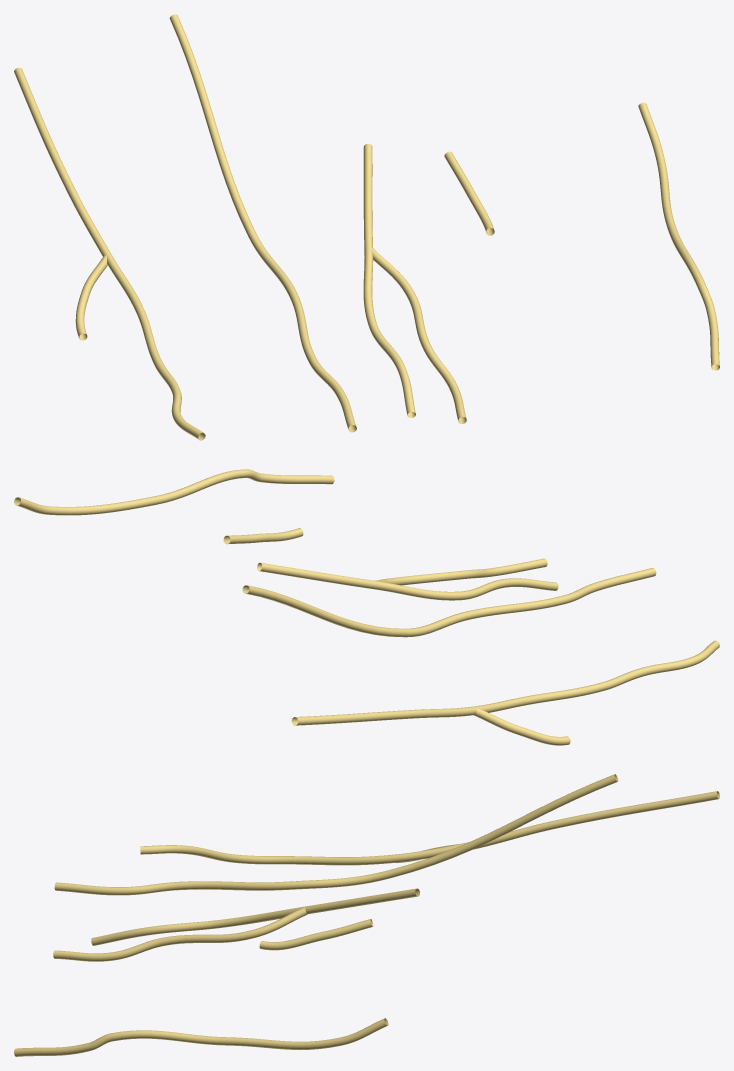
The picture shows the model from 3 angles, top to bottom: view 1: azimuth 30°, elevation 25°; view 2: azimuth 150°, elevation 25°; view 3: azimuth 270°, elevation 25°; orthographic projection. The views are drawn at different scales.
Parts seen in each view (by area): view 1: ZA_86f5a500ab1428df; view 2: ZA_86f5a500ab1428df; view 3: ZA_86f5a500ab1428df.
Part boxes in pixels (x1,y1,x2,y2): ZA_86f5a500ab1428df: (14, 14, 719, 440); ZA_86f5a500ab1428df: (14, 469, 719, 745); ZA_86f5a500ab1428df: (14, 774, 719, 1056).
Bounding box in the file's own units: 0.0765 × 0.0248 × 0.0845.
